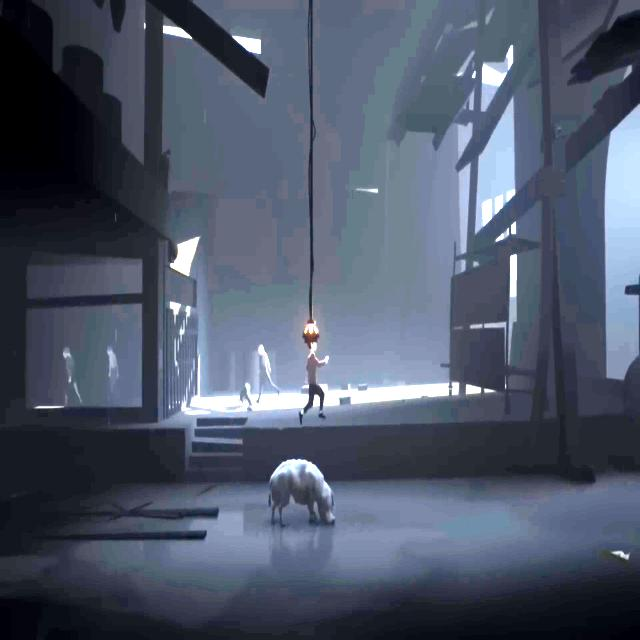boy: (299, 342, 329, 425)
interactible: (302, 323, 320, 338)
zombie: (254, 345, 280, 404), (63, 346, 82, 406), (107, 346, 118, 405), (238, 383, 253, 410)
